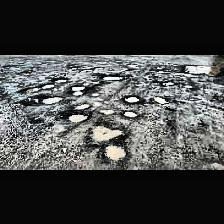pothole: (91, 123, 125, 139), (184, 62, 220, 74), (105, 143, 128, 159), (66, 112, 88, 122), (42, 94, 62, 102), (102, 73, 126, 79), (124, 94, 140, 102), (20, 86, 40, 92), (153, 95, 167, 103), (74, 102, 90, 108), (122, 110, 138, 116), (100, 107, 114, 113), (53, 76, 67, 82), (42, 82, 54, 88), (70, 85, 86, 89), (71, 90, 83, 94), (162, 80, 174, 84)
